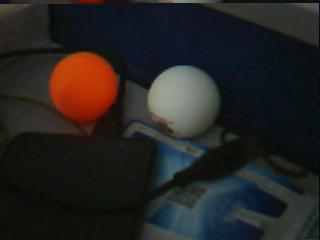oball: (49, 51, 116, 122)
